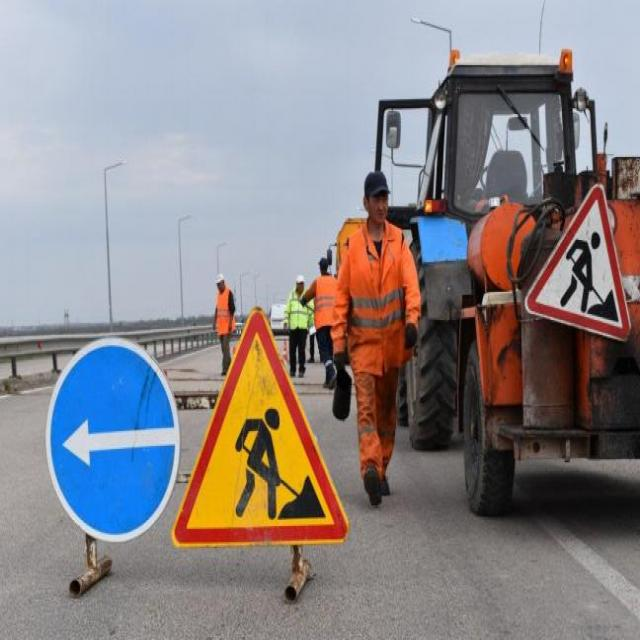roadwork: (172, 307, 340, 549), (520, 185, 634, 344)
